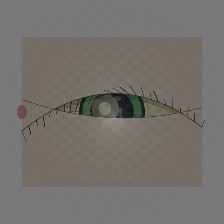corneal_ulcer: (82, 90, 128, 127)
